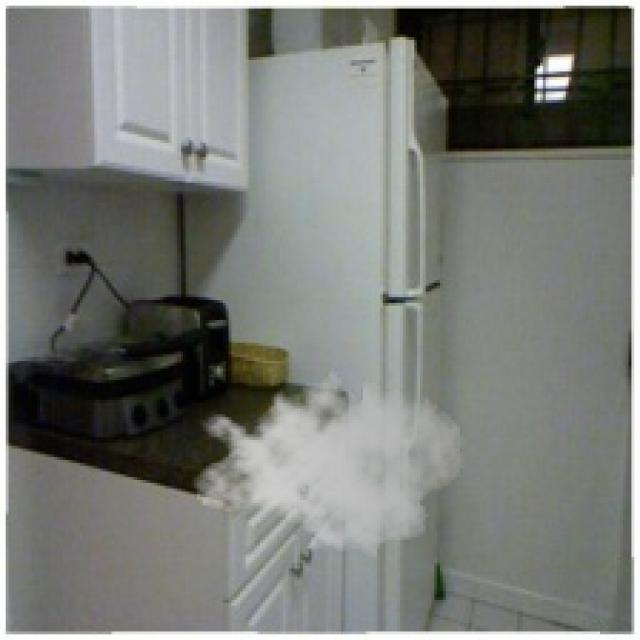Smoke: (191, 360, 466, 563)
